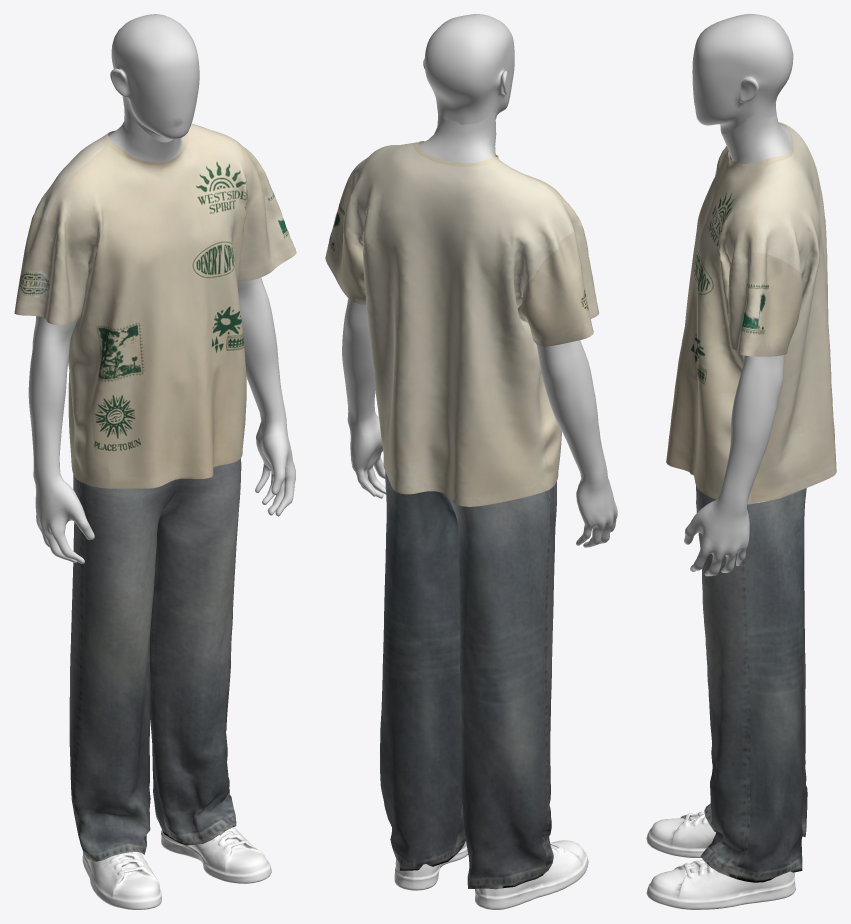
3 views of the same model, side by side, from view 1: azimuth 30°, elevation 25°; view 2: azimuth 150°, elevation 25°; view 3: azimuth 270°, elevation 25° (orthographic). The views are drawn at different scales.
Visible parts, largest first — view 1: tshirt_3, body_3_0, shoes_r_Shape_2, shoes_l_Shape_1; view 2: tshirt_3, body_3_0, shoes_r_Shape_2, shoes_l_Shape_1; view 3: tshirt_3, body_3_0, shoes_l_Shape_1, shoes_r_Shape_2.
Part boxes in pixels (box(x1,y1,x2,y2)): tshirt_3: box(14, 123, 296, 861); body_3_0: box(28, 14, 295, 563); shoes_r_Shape_2: box(82, 852, 161, 909); shoes_l_Shape_1: box(161, 827, 271, 883); tshirt_3: box(325, 141, 599, 889); body_3_0: box(342, 14, 617, 547); shoes_r_Shape_2: box(475, 840, 588, 909); shoes_l_Shape_1: box(394, 841, 468, 890); tshirt_3: box(666, 122, 836, 882); body_3_0: box(684, 14, 793, 576); shoes_l_Shape_1: box(646, 859, 795, 909); shoes_r_Shape_2: box(646, 811, 715, 857).
Size of the model in its own units: 0.6357 by 1.9 by 0.3829.
3 materials, 1 textured.
